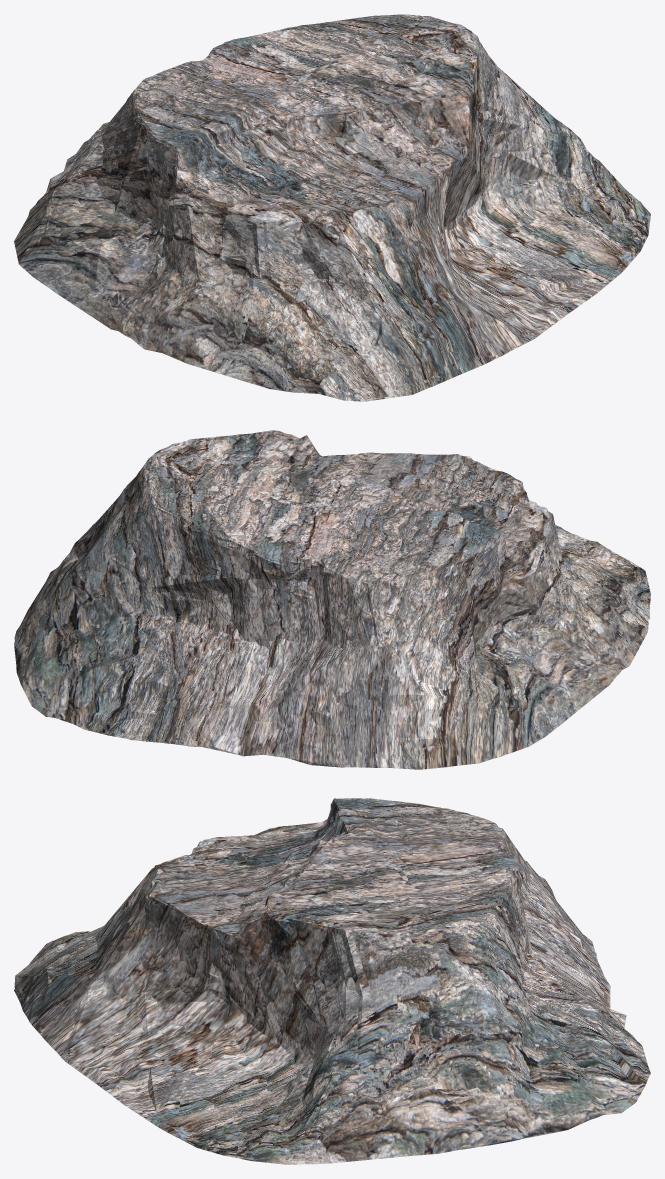
Rendered from Stump3.obj.
The picture shows the model from 3 angles, top to bottom: view 1: azimuth 30°, elevation 25°; view 2: azimuth 150°, elevation 25°; view 3: azimuth 270°, elevation 25°; orthographic projection.
Visible parts, largest first — view 1: default; view 2: default; view 3: default.
Boxes of the visible parts, left/top/right/bottom form: default: left=14, top=14, right=650, bottom=401; default: left=14, top=430, right=650, bottom=769; default: left=14, top=798, right=650, bottom=1164.
Bounding box in the file's own units: 305 × 96 × 310.
1 material, 1 textured.
